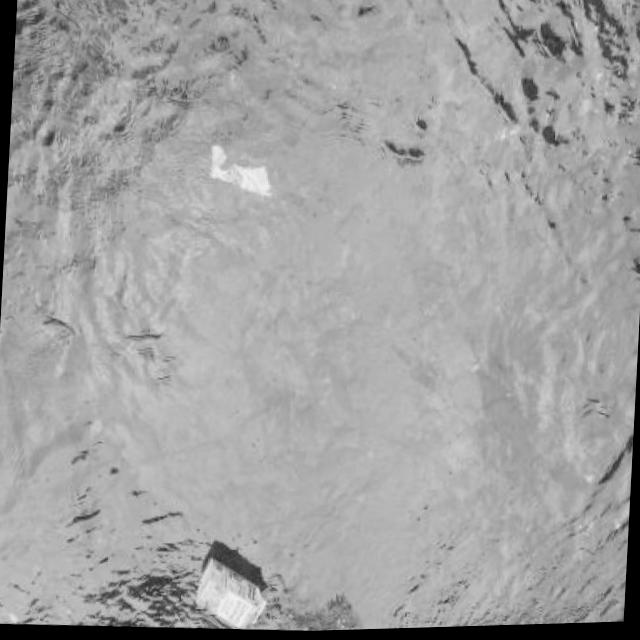Cardboard: (190, 552, 271, 633)
Plastic: (202, 136, 280, 210)
